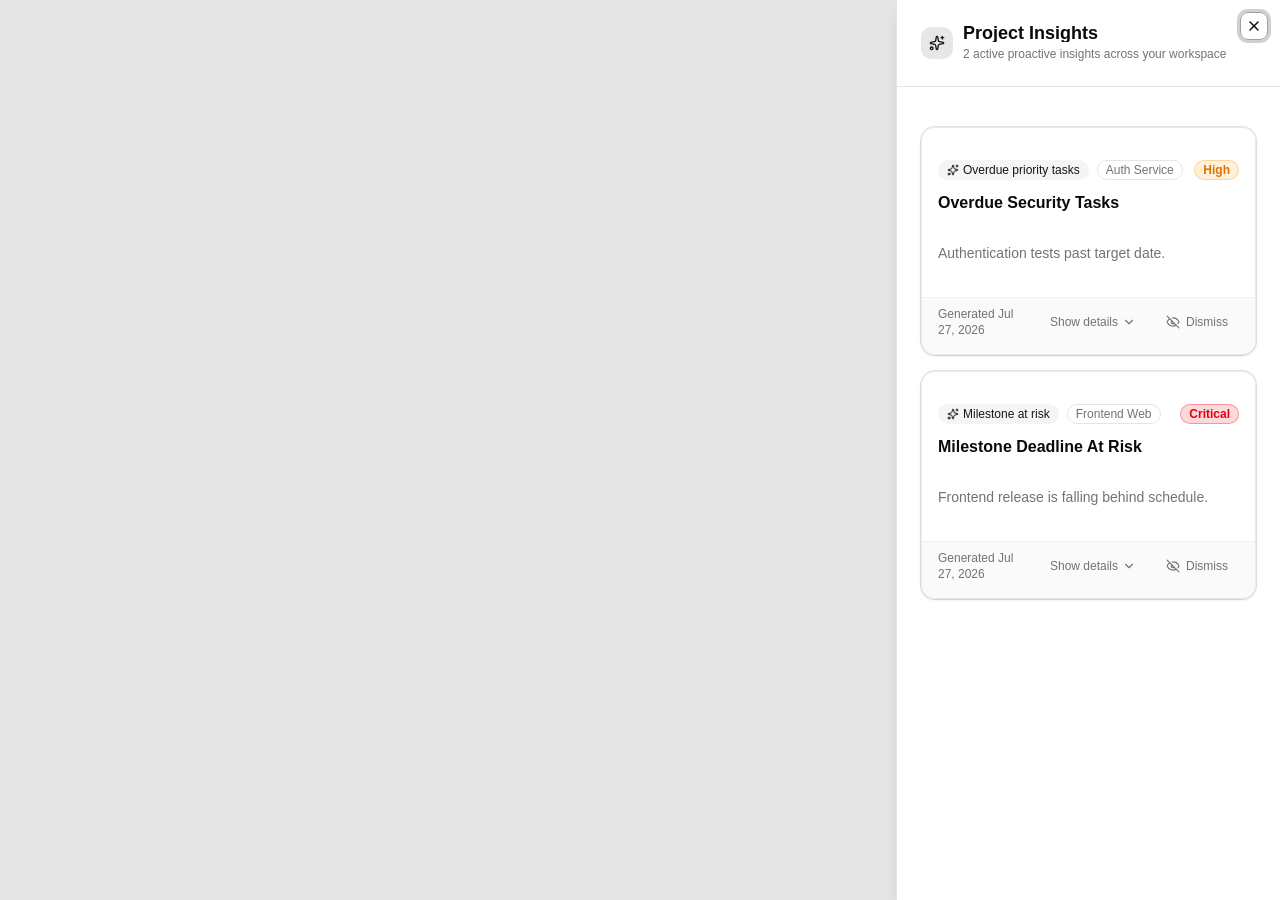
it: WorkspaceRecommendationsSheet Component › 2. PROGRESSIVE EXPANSION: items start collapsed and expand/collapse cleanly
The image size is (1280, 900).
Check: the heading "Overdue Security Tasks" is shown, box [938,194,1119,211]
Check: the heading "Milestone Deadline At Risk" is shown, box [938,438,1142,455]
// Click Show details on item 1
What coordinates should you click on to do the following:
click the button "Show details" below "Authentication tests past target date."
I would click on:
 (1093, 322)
Its box is [1039,306,1147,338].
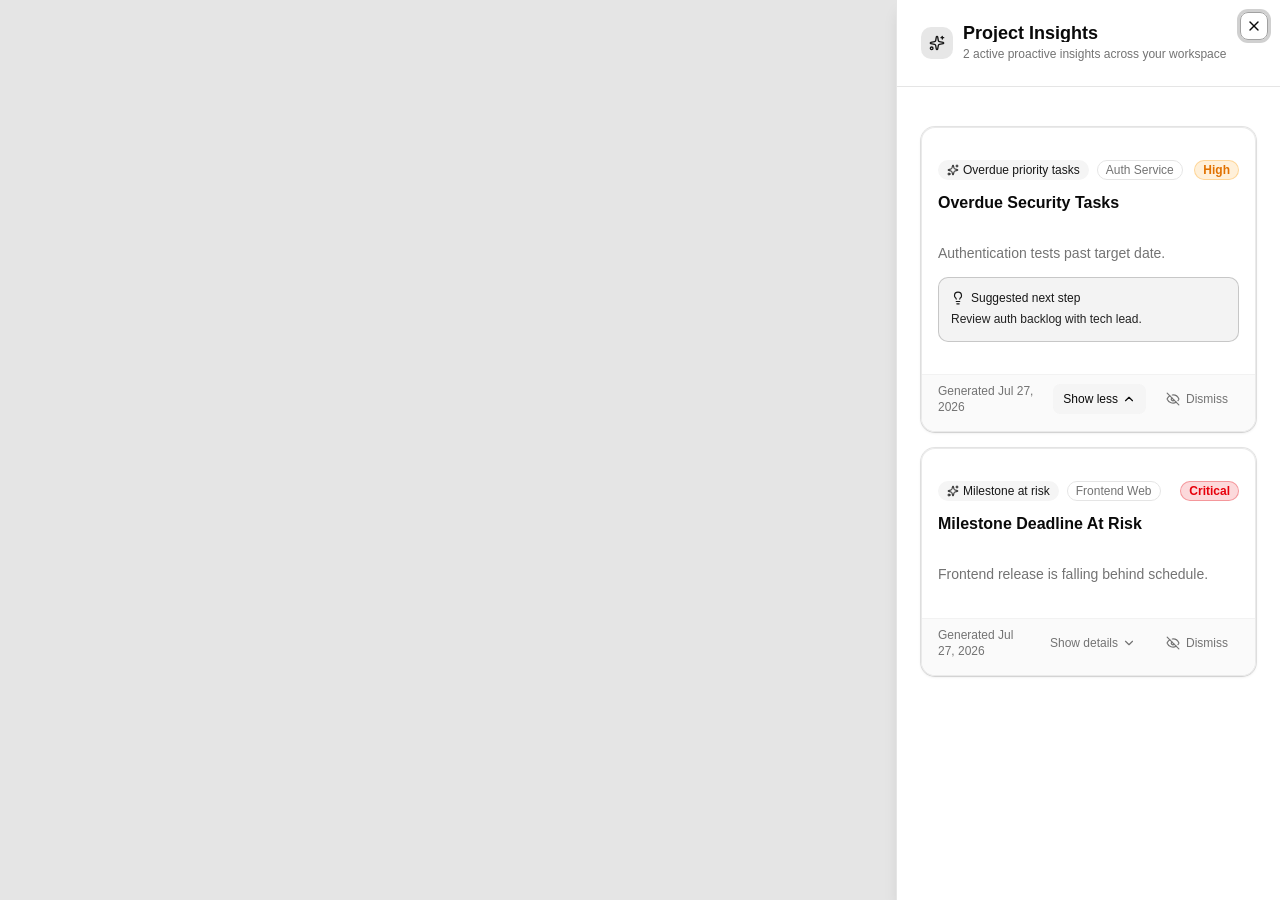
Check: the text "Suggested next step" is shown, box [971,290,1080,306]
Check: the text "Review auth backlog with tech lead." is shown, box [951,312,1142,326]
// Click Show details on item 2 (collapses item 1 in single-expansion model)
What coordinates should you click on to do the following:
click the button "Show details"
I would click on:
 (1093, 643)
Its box is [1039,627,1147,659].
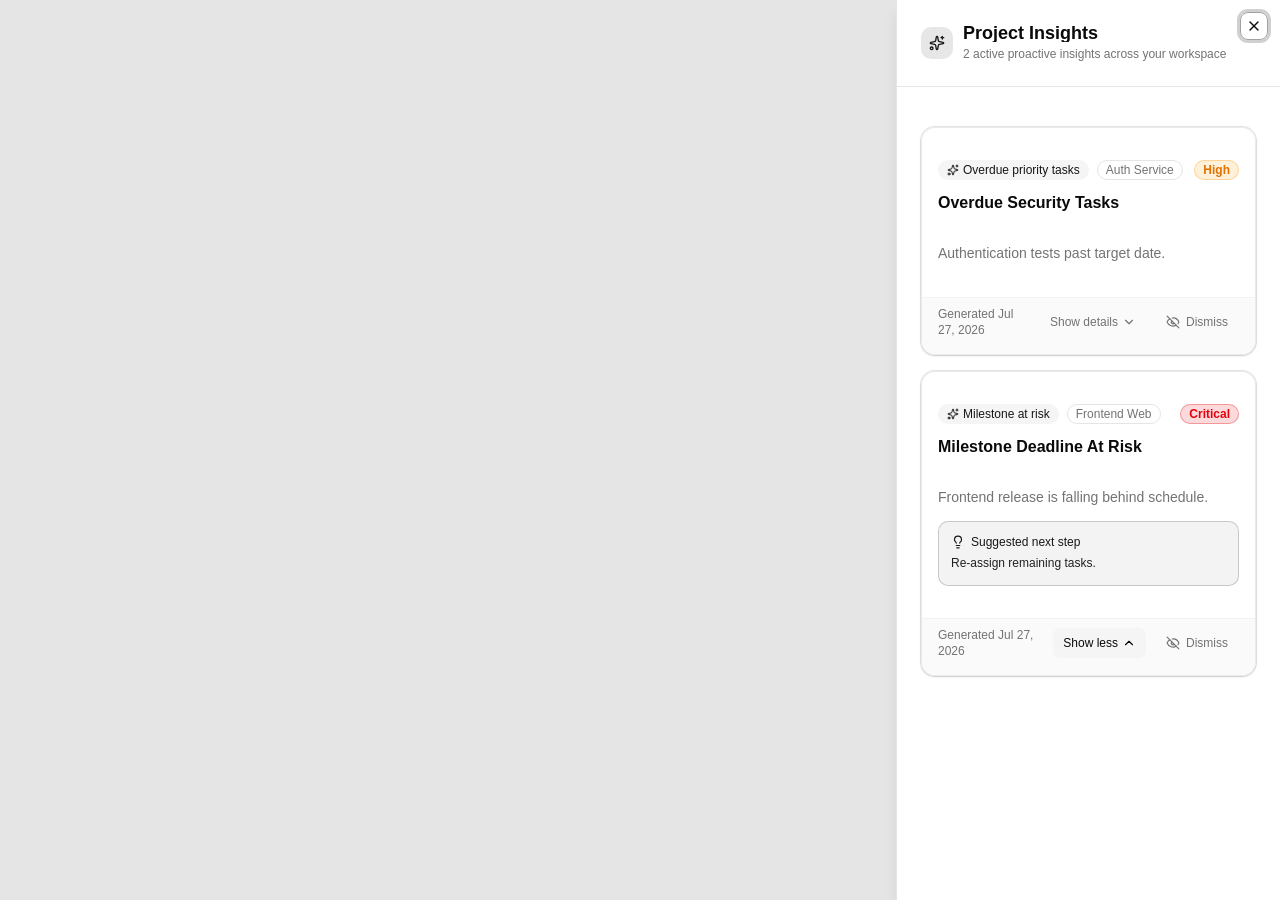
Check: the text "Re-assign remaining tasks." is shown, box [951,556,1096,570]
